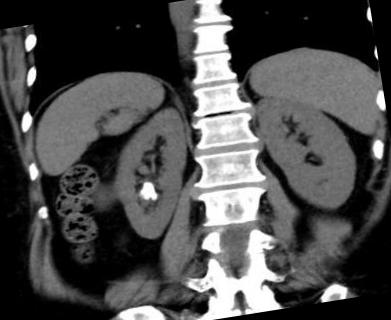Tas_Var: (136, 176, 158, 204)
